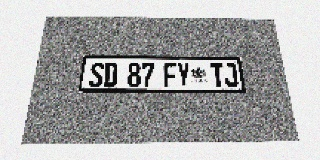7: (141, 63, 154, 87)
8: (127, 63, 141, 87)
D: (103, 62, 118, 87)
F: (164, 63, 177, 87)
J: (223, 63, 238, 87)
S: (89, 62, 104, 87)
T: (210, 63, 225, 87)
Y: (177, 63, 191, 87)
